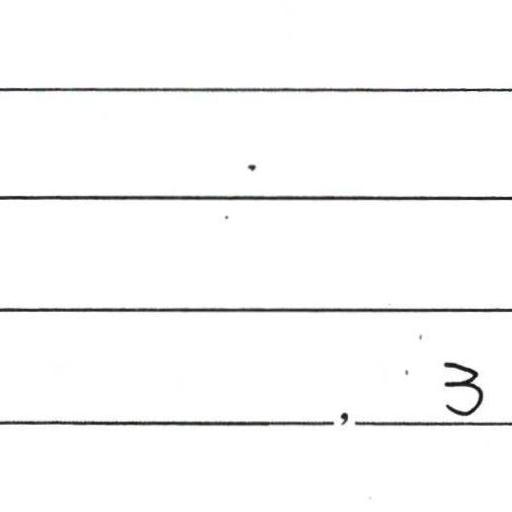ans: (437, 358, 488, 421)
